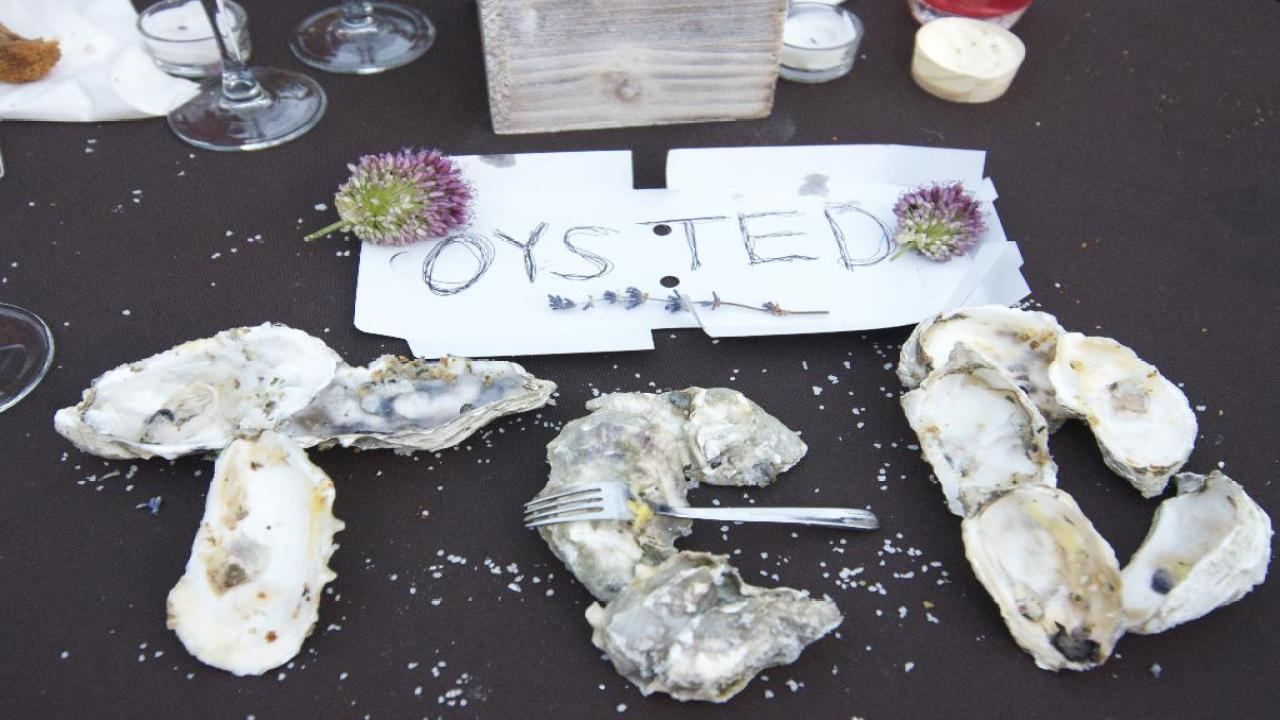fork: (527, 482, 882, 527)
